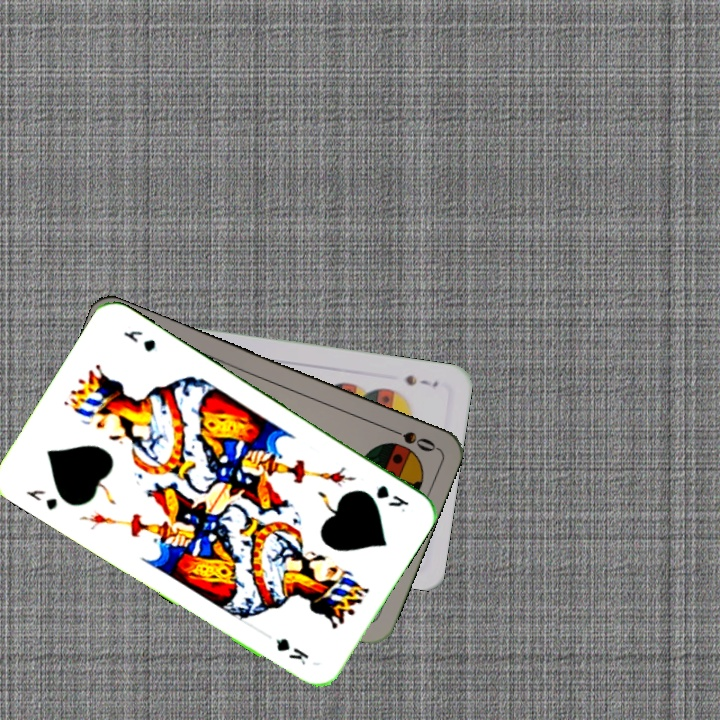GK: (371, 481, 411, 515), (22, 485, 60, 513)
S7: (401, 371, 441, 390)
SO: (382, 423, 439, 455)
